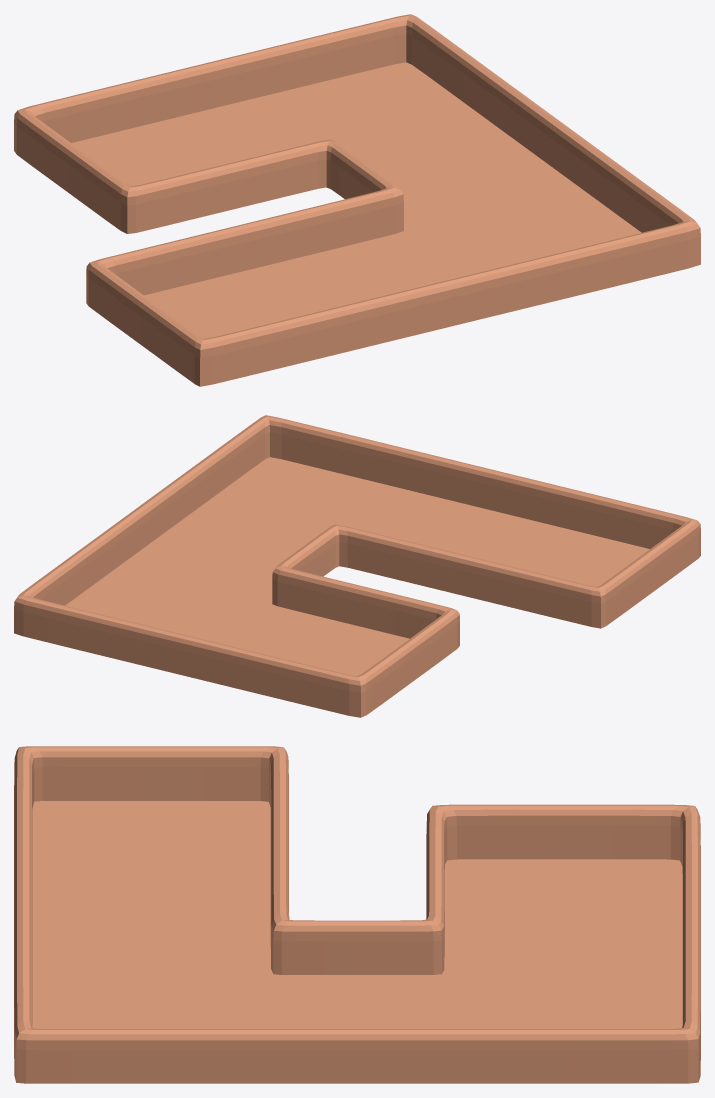
The model's file is LVL1-1.fbx.
3 renders of one model, top to bottom at view 1: azimuth 30°, elevation 25°; view 2: azimuth 150°, elevation 25°; view 3: azimuth 270°, elevation 25°, orthographic. The views are drawn at different scales.
Visible parts, largest first — view 1: LVL1.001, LVL1.004, LVL1.002, LVL1.003, LVL1.006, LVL1.008, LVL1.005, LVL1, LVL1.007; view 2: LVL1.001, LVL1.004, LVL1.002, LVL1.006, LVL1.003, LVL1.008, LVL1.005, LVL1, LVL1.007; view 3: LVL1.001, LVL1.003, LVL1, LVL1.005, LVL1.007, LVL1.004, LVL1.002, LVL1.006, LVL1.008.
Part boxes in pixels (x1,y1,x2,y2): LVL1.001: [71, 62, 641, 338]; LVL1.004: [200, 221, 700, 386]; LVL1.002: [18, 14, 410, 142]; LVL1.003: [406, 14, 696, 232]; LVL1.006: [91, 187, 403, 295]; LVL1.008: [127, 139, 330, 233]; LVL1.005: [86, 262, 204, 386]; LVL1: [14, 110, 131, 233]; LVL1.007: [326, 139, 399, 199]; LVL1.001: [65, 457, 649, 675]; LVL1.004: [266, 415, 697, 548]; LVL1.002: [14, 595, 360, 717]; LVL1.006: [335, 524, 600, 628]; LVL1.003: [17, 415, 269, 605]; LVL1.008: [272, 566, 456, 638]; LVL1.005: [597, 520, 700, 628]; LVL1: [357, 610, 459, 717]; LVL1.007: [275, 524, 339, 576]; LVL1.001: [32, 801, 682, 1028]; LVL1.003: [16, 1028, 698, 1083]; LVL1: [432, 804, 693, 860]; LVL1.005: [20, 746, 282, 801]; LVL1.007: [273, 919, 441, 974]; LVL1.004: [14, 747, 34, 1082]; LVL1.002: [680, 806, 700, 1081]; LVL1.006: [269, 747, 289, 973]; LVL1.008: [426, 806, 447, 973].
Bounding box in the file's own units: 1001 × 80 × 1000.
